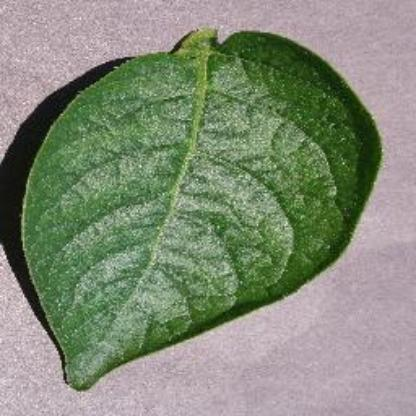Healthy-plant: (10, 21, 384, 395)
